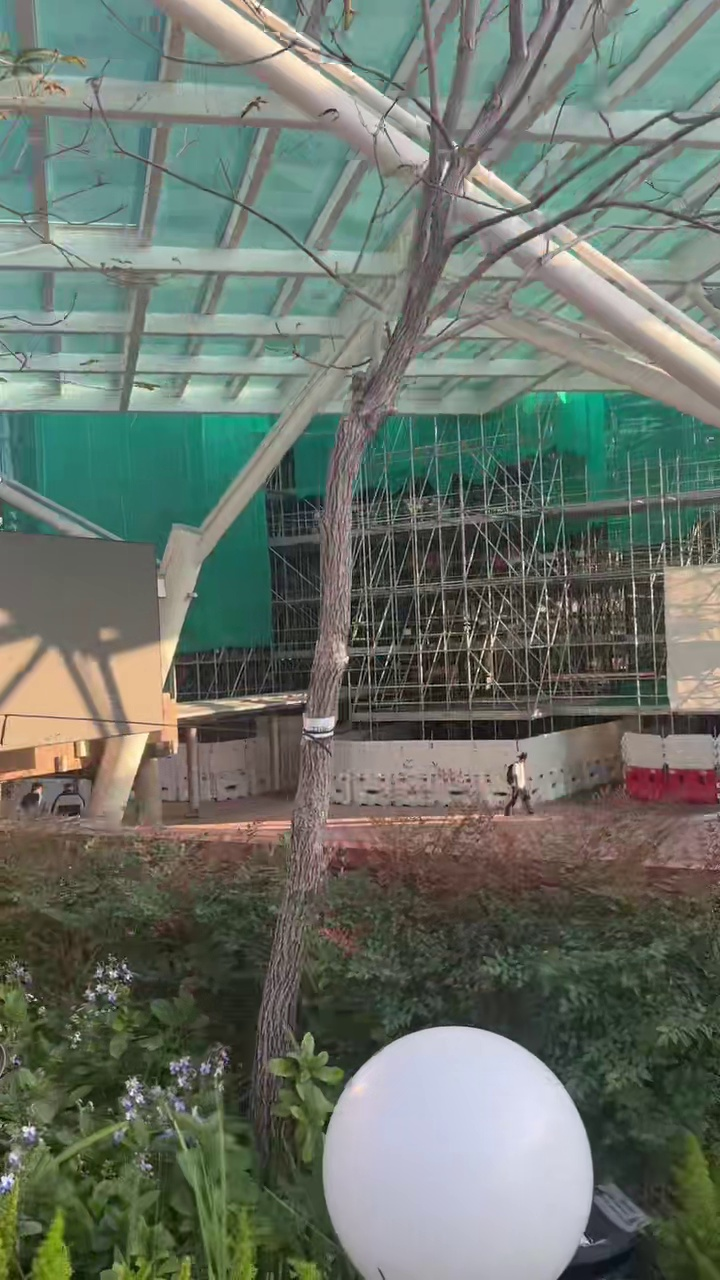Tabebuia chrysantha: (252, 0, 641, 1153)
